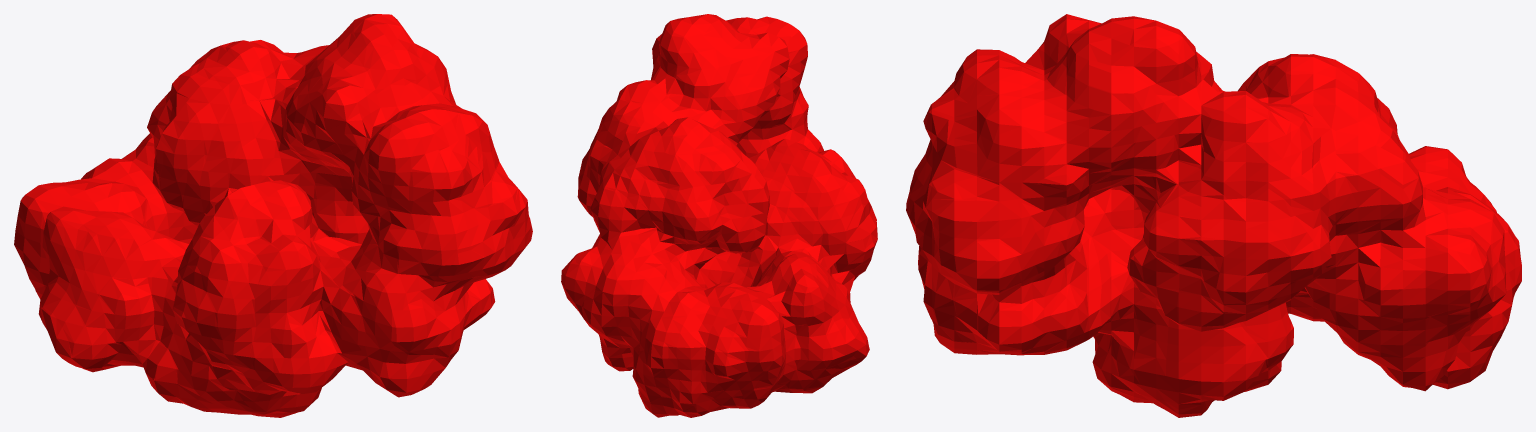
The model's file is serA_coarse.dae.
The picture shows the model from 3 angles, left to right: view 1: azimuth 30°, elevation 25°; view 2: azimuth 150°, elevation 25°; view 3: azimuth 270°, elevation 25°; orthographic projection. The views are drawn at different scales.
Visible parts, largest first — view 1: serA; view 2: serA; view 3: serA.
Part boxes in pixels (bbox=[...]): serA: bbox=[14, 14, 532, 417]; serA: bbox=[561, 14, 877, 417]; serA: bbox=[906, 14, 1521, 417].
Size of the model in its own units: 95.08 by 96.8 by 124.
